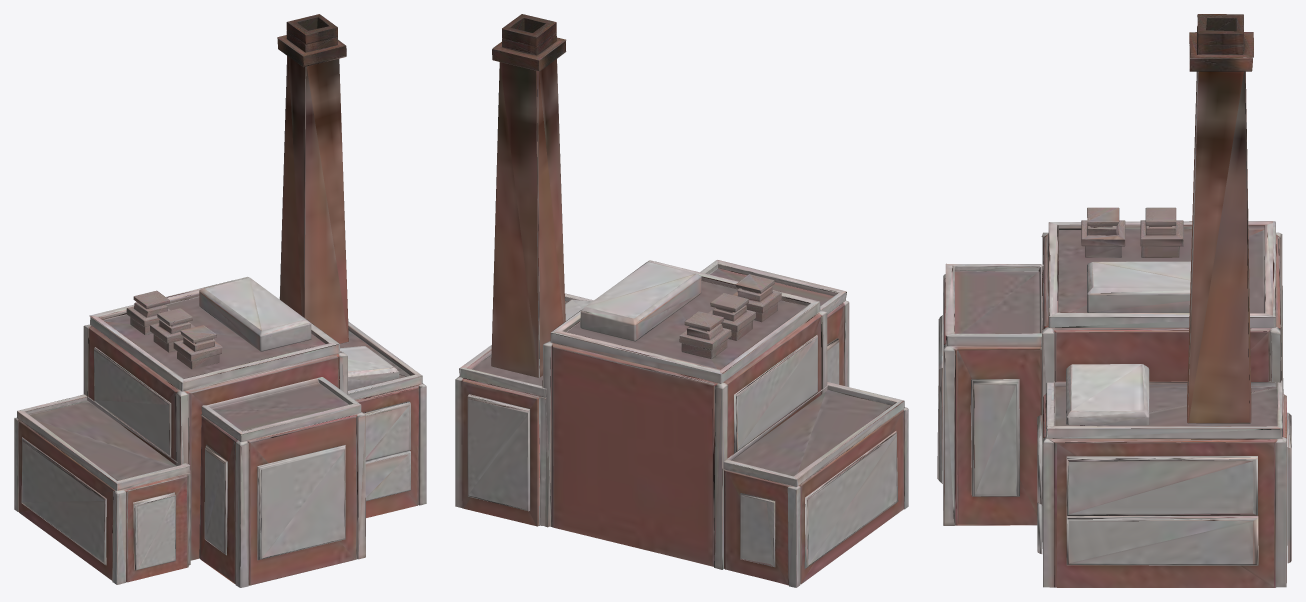
Rendered from 19-factory-with-chimney.glb.
3 views of the same model, side by side, from view 1: azimuth 30°, elevation 25°; view 2: azimuth 150°, elevation 25°; view 3: azimuth 270°, elevation 25° (orthographic). The views are drawn at different scales.
Parts seen in each view (by area): view 1: geometry_0; view 2: geometry_0; view 3: geometry_0.
Part boxes in pixels (x1=…): geometry_0: x1=14, y1=14, x2=426, y2=587; geometry_0: x1=455, y1=14, x2=908, y2=587; geometry_0: x1=937, y1=14, x2=1291, y2=587.
Size of the model in its own units: 0.7348 by 0.9531 by 0.5689.
Materials: 1 (1 with a texture image).
